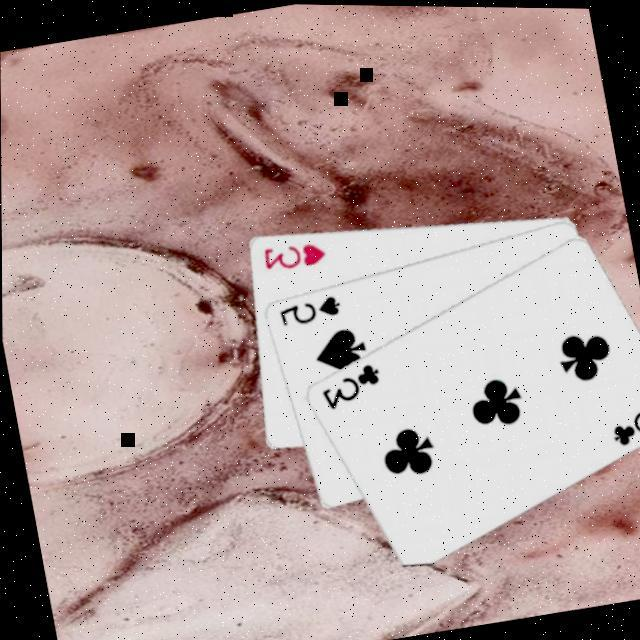3C: (314, 357, 387, 415), (604, 396, 640, 450)
3H: (258, 234, 330, 276)
5S: (274, 290, 344, 332)
